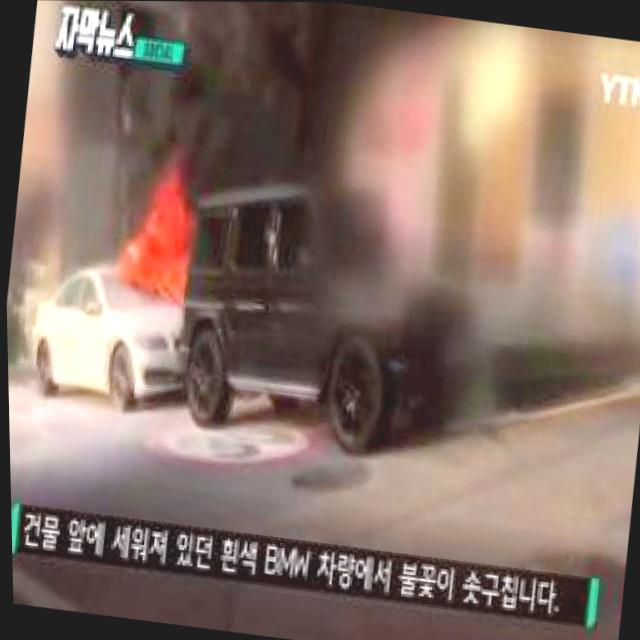helmet: (123, 207, 191, 289)
